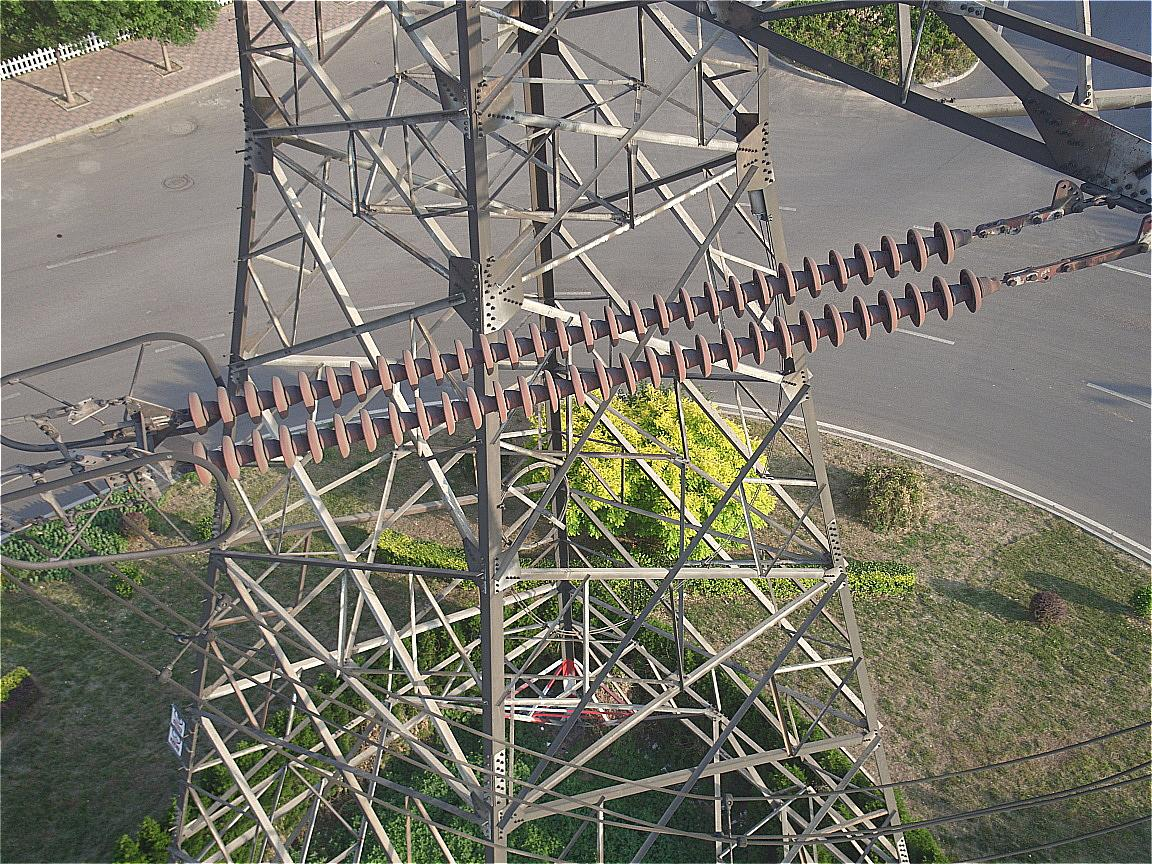insultor1: (188, 218, 982, 486)
